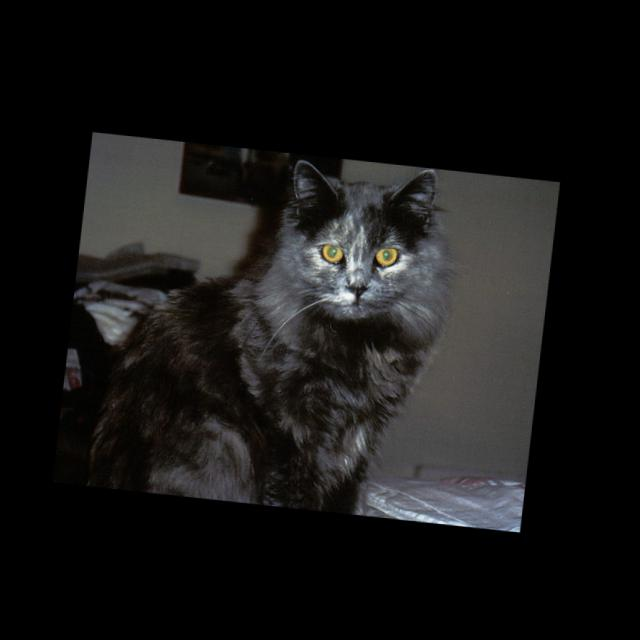animals: (288, 153, 436, 296)
